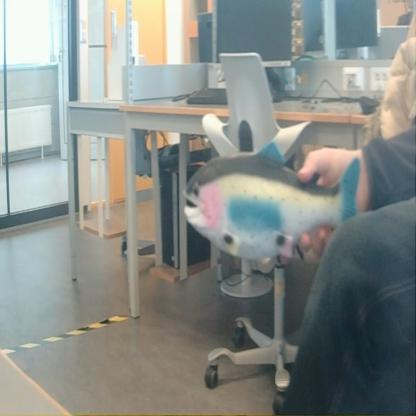rubberfish: (180, 140, 372, 268)
